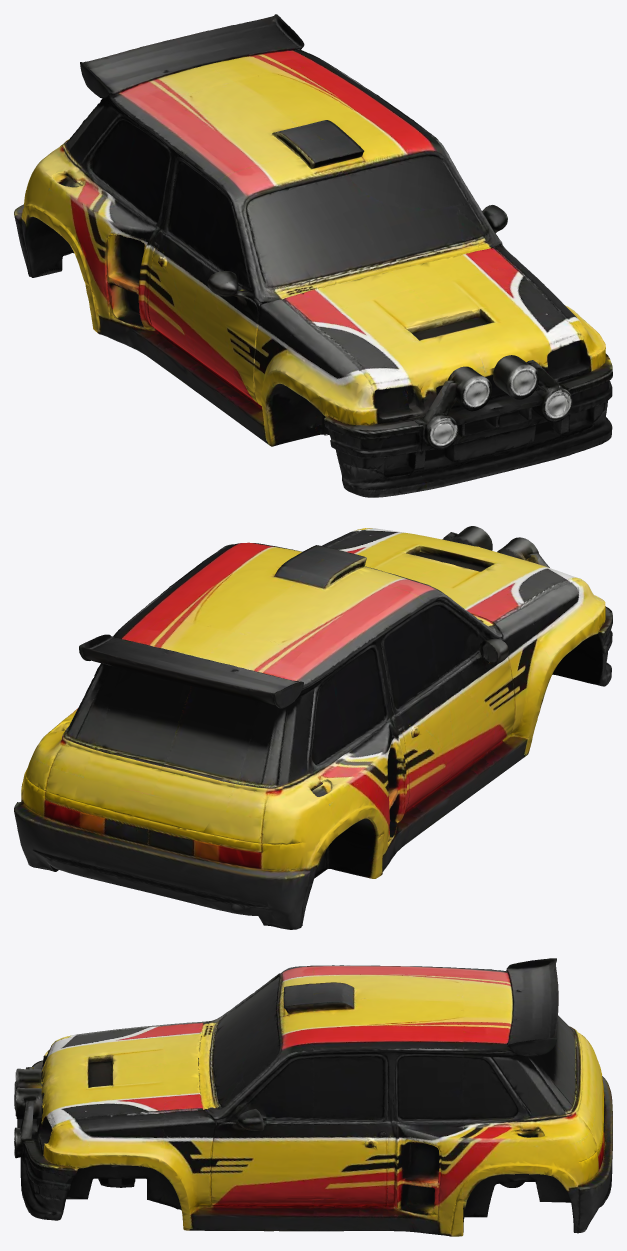
The model's file is car_bantam_turbo_opt.glb.
3 renders of one model, top to bottom at view 1: azimuth 30°, elevation 25°; view 2: azimuth 150°, elevation 25°; view 3: azimuth 270°, elevation 25°, orthographic. The views are drawn at different scales.
Parts seen in each view (by area): view 1: tmpjdjobmukobj; view 2: tmpjdjobmukobj; view 3: tmpjdjobmukobj.
Part boxes in pixels (bbox=[...]): tmpjdjobmukobj: bbox=[14, 14, 612, 497]; tmpjdjobmukobj: bbox=[14, 526, 612, 929]; tmpjdjobmukobj: bbox=[14, 958, 612, 1236].
Bounding box in the file's own units: 0.4845 × 0.3429 × 1.
1 material, 1 textured.
